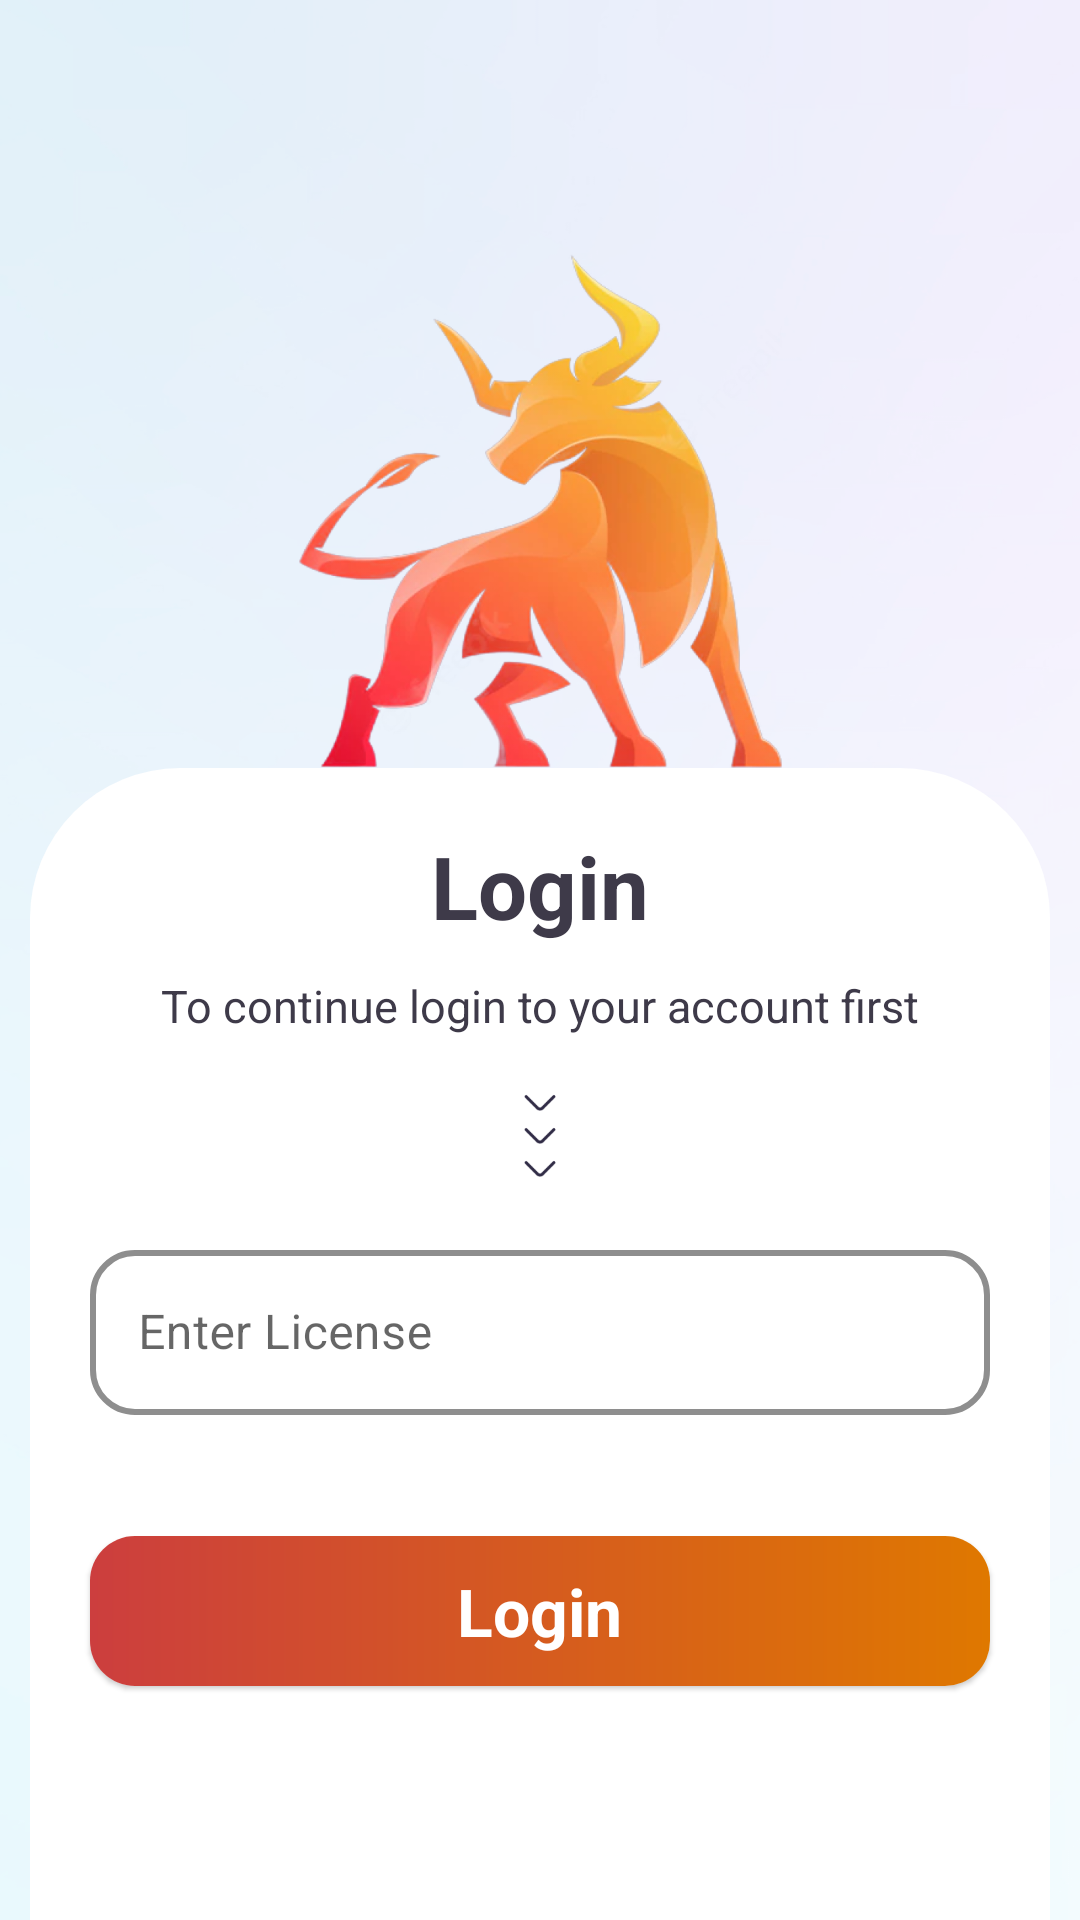

Screen size 1080×1920. Icon name, then its center in pixels as (x,y):
arrow bottom: (540,1136)
